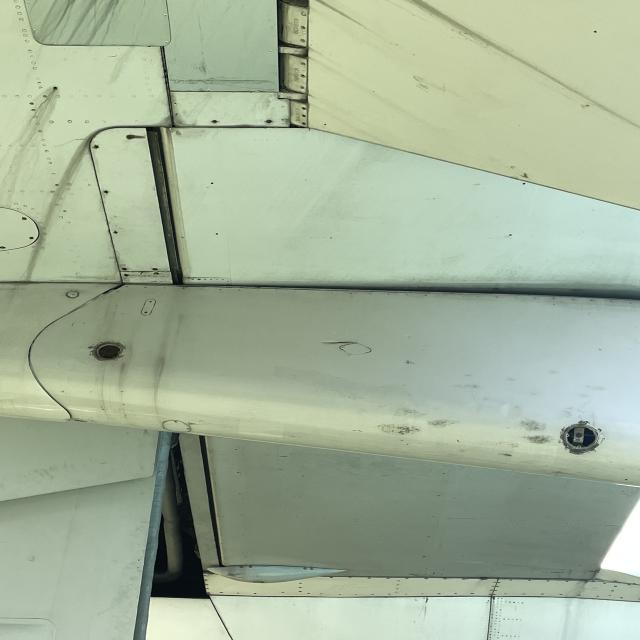crack: (314, 339, 364, 351)
